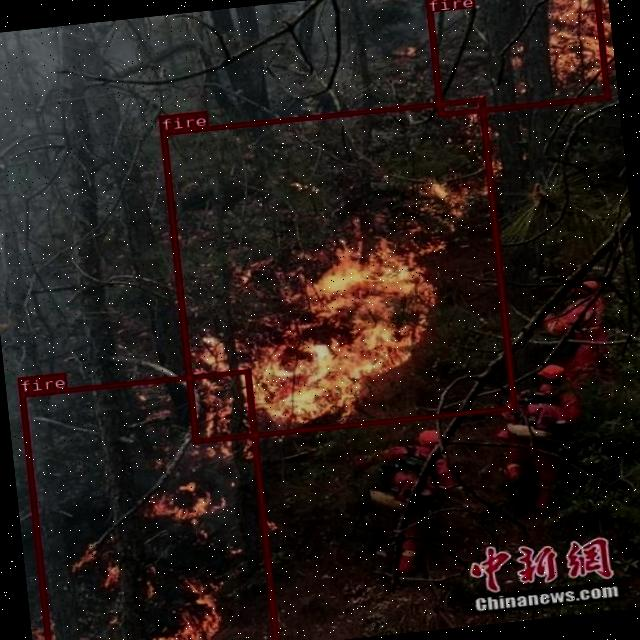fire: (159, 96, 516, 443), (18, 367, 278, 640), (423, 0, 608, 116)
